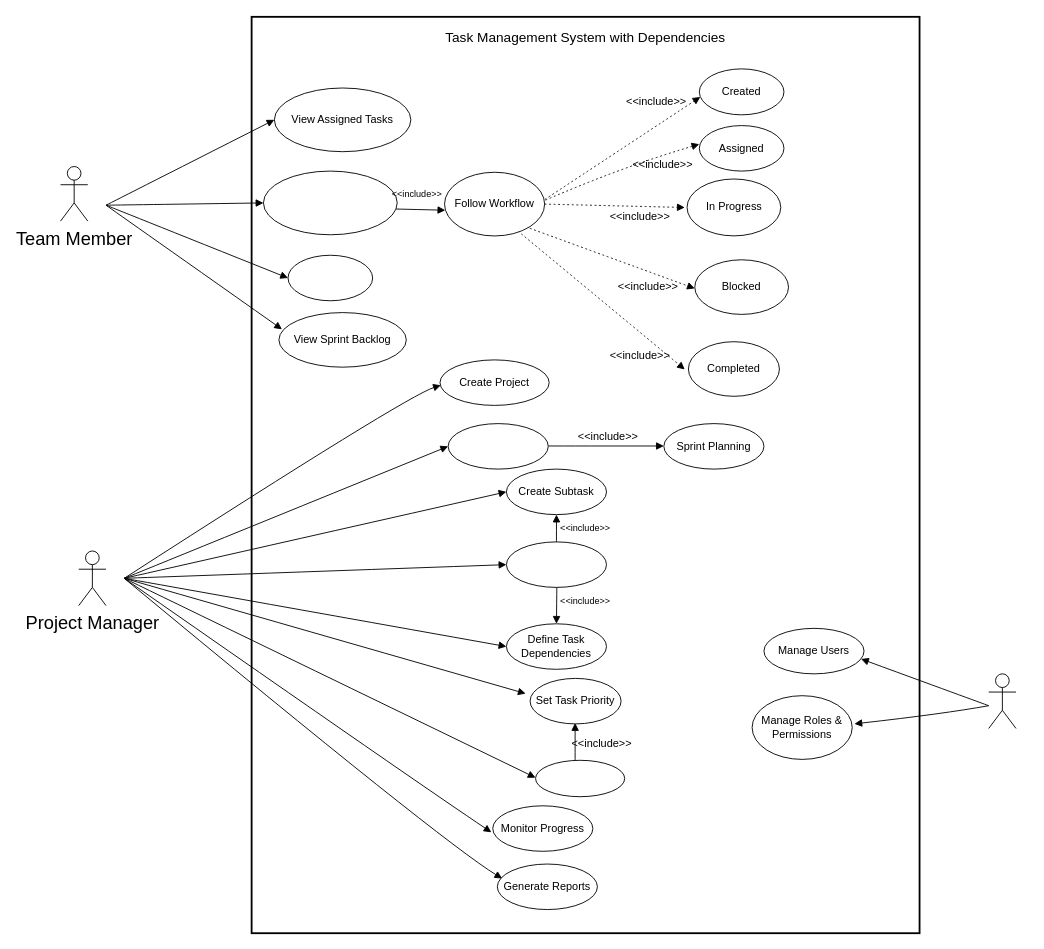
Some shapes in this 1044 by 949 pixel diagram are drawn without their labels. Each missing label, with the centre of its shape:
"Admin" belongs at (x=1002, y=700).
"Assign Task" belongs at (x=580, y=778).
"Create Sprint" belongs at (x=497, y=446).
"Create Task" belongs at (x=556, y=564).
"Log Work" belongs at (x=330, y=277).
"Update Task Status" belongs at (x=330, y=202).
